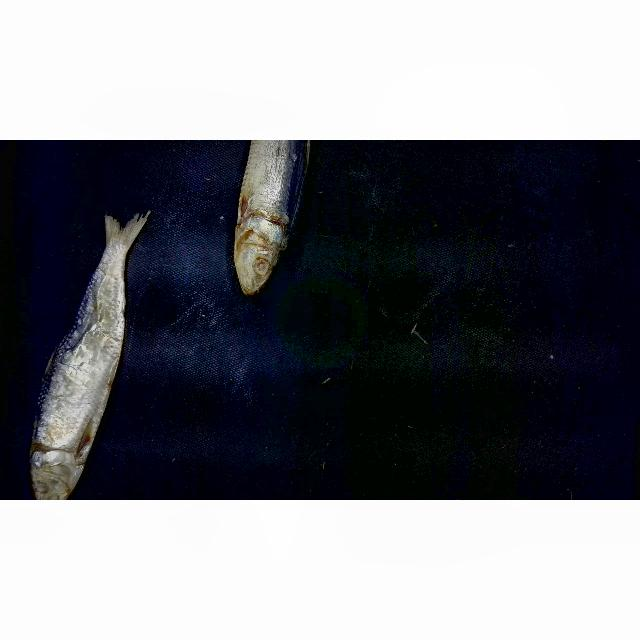Grade_A_Body: (31, 313, 136, 435), (225, 140, 319, 201)
Grade_A_Head: (216, 211, 308, 300), (21, 452, 97, 500)
Grade_A_Tail: (79, 192, 154, 313)
